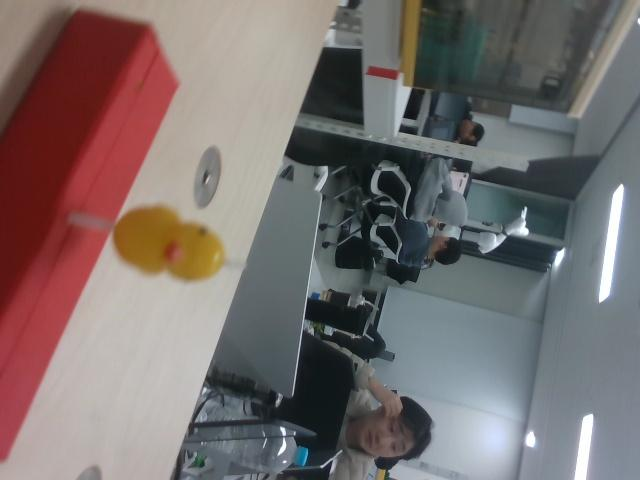y_duck: (105, 197, 235, 289)
